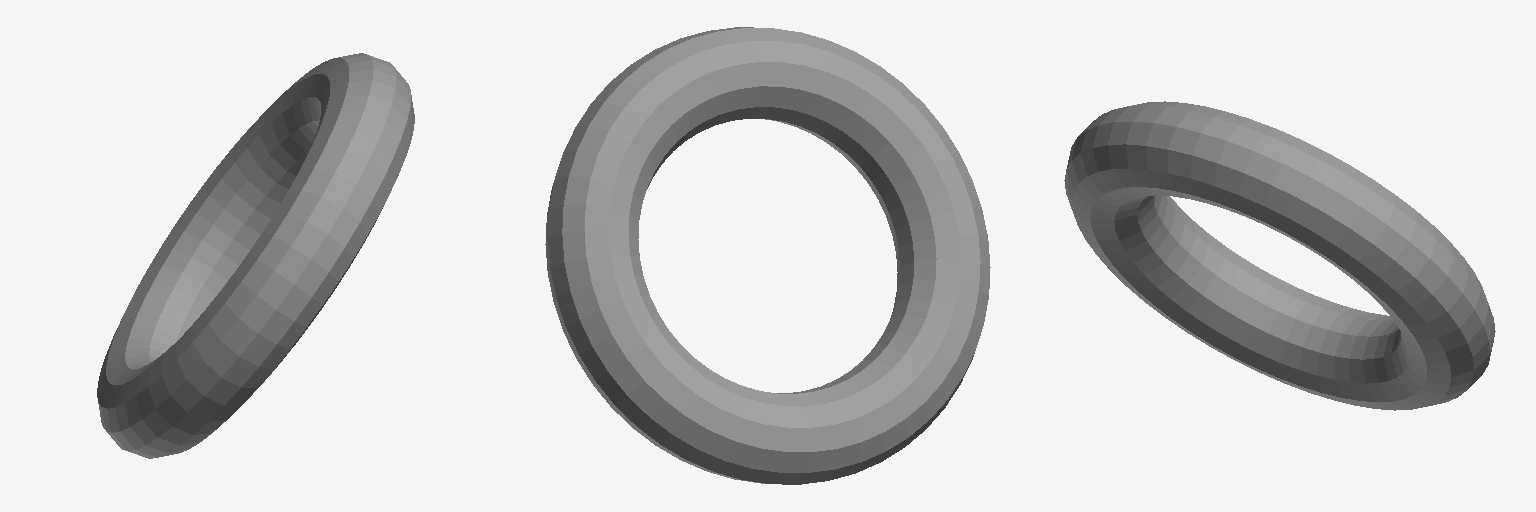
The model's file is light.obj.
The picture shows the model from 3 angles: view 1: azimuth 30°, elevation 25°; view 2: azimuth 150°, elevation 25°; view 3: azimuth 270°, elevation 25°; orthographic projection.
Parts seen in each view (by area): view 1: light_Torus; view 2: light_Torus; view 3: light_Torus.
Part boxes in pixels (bbox=[...]): light_Torus: bbox=[97, 53, 414, 458]; light_Torus: bbox=[545, 27, 990, 484]; light_Torus: bbox=[1064, 101, 1495, 410].
Bounding box in the file's own units: 0.9856 × 1.05 × 1.14.